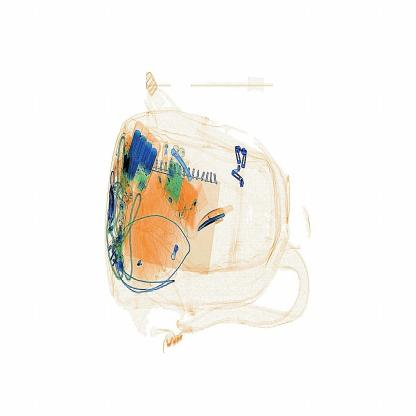pliers: (192, 201, 230, 236)
